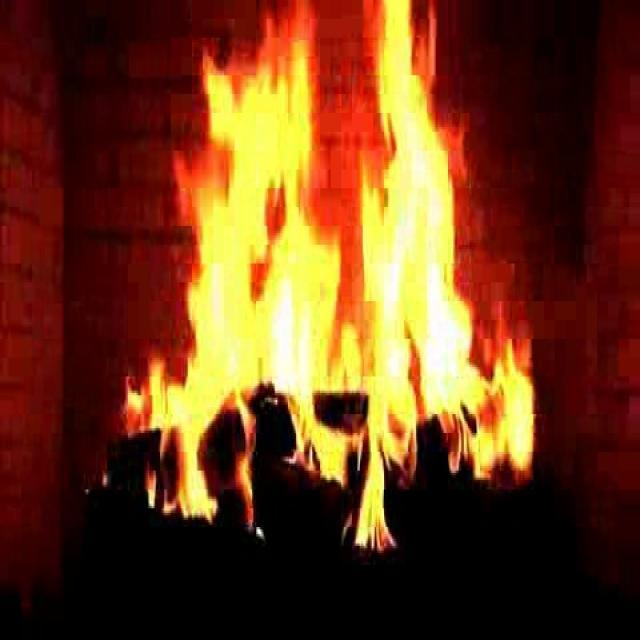Fire: (154, 39, 528, 566)
